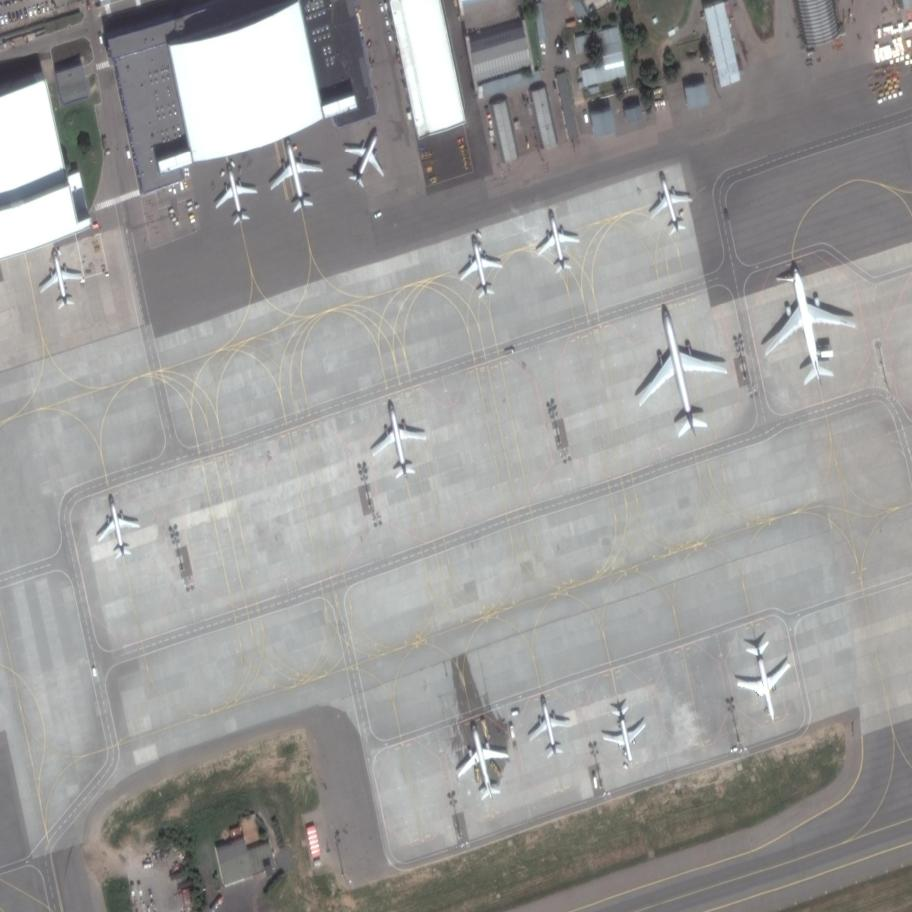plane: (621, 281, 737, 458), (745, 244, 865, 400), (363, 386, 434, 493), (727, 626, 798, 731), (448, 702, 516, 805), (330, 109, 400, 202), (264, 127, 328, 220), (527, 195, 586, 285), (596, 688, 657, 772), (89, 478, 146, 564), (519, 681, 576, 766), (641, 156, 698, 240), (207, 152, 263, 234), (456, 222, 507, 308), (31, 240, 86, 316)
small-vehicle: (11, 10, 16, 24), (7, 11, 12, 23), (15, 9, 20, 21), (23, 6, 27, 20), (33, 5, 37, 19), (19, 9, 24, 20), (28, 5, 32, 18), (37, 4, 41, 17), (4, 13, 8, 25), (41, 4, 45, 15), (0, 15, 4, 26), (46, 1, 49, 11)
